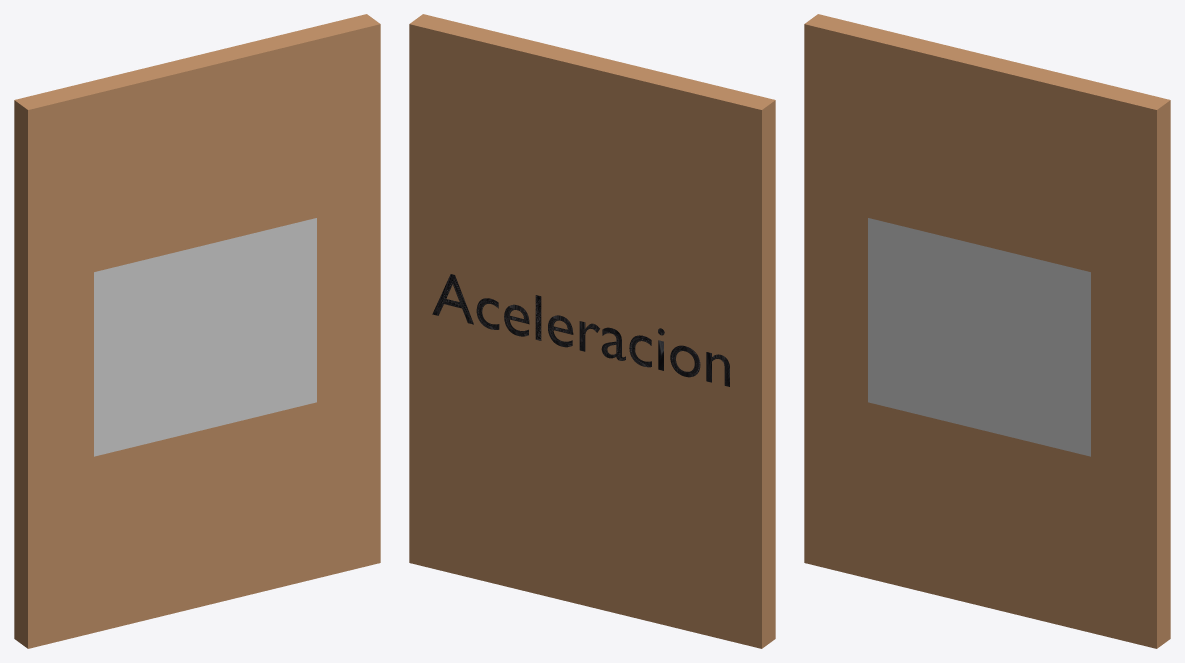
Rendered from CARTA7A.obj.
3 views of the same model, side by side, from view 1: azimuth 30°, elevation 25°; view 2: azimuth 150°, elevation 25°; view 3: azimuth 330°, elevation 25° (orthographic).
Parts seen in each view (by area): view 1: Cube; view 2: Cube; view 3: Cube.
Boxes of the visible parts, bbox=[...] form: Cube: bbox=[14, 14, 380, 648]; Cube: bbox=[409, 14, 775, 648]; Cube: bbox=[804, 14, 1170, 648].
Size of the model in its own units: 2 by 2.92 by 0.1639.
Materials: 3 (2 with a texture image).
